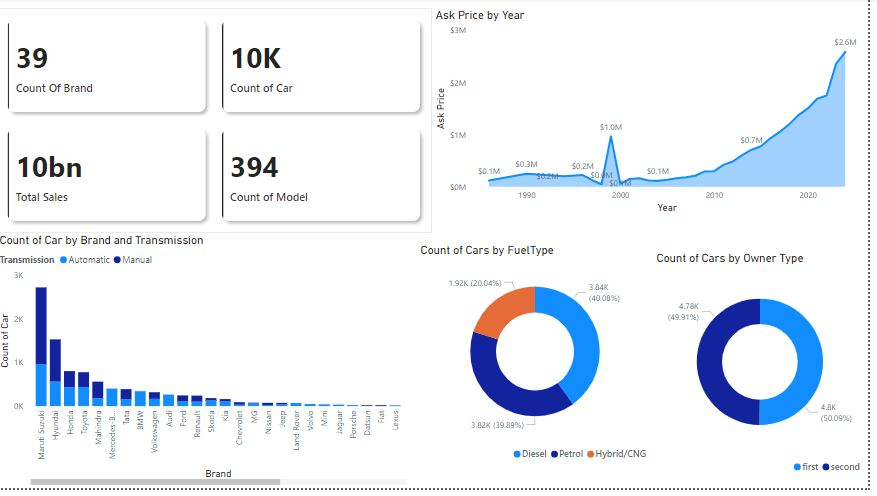

What the dashboard file says about the page in this screenshot:
{"tool":"powerbi","page":{"name":"First","canvas":[1280,720],"ordinal":0},"visuals":[{"type":"columnChart","fields":{"Category":["UsedCar (2).Brand"],"Y":["UsedCar (2).Count of Car"],"Series":["UsedCar (2).Transmission"]},"box":[0,345.3,608.3,374.7],"z":0},{"type":"lineChart","fields":{"Y":["Avg(UsedCar.NewAskPrice)"],"Category":["UsedCar.Year"]},"box":[640.7,14.7,639.2,305.6],"z":1000},{"type":"donutChart","fields":{"Category":["UsedCar (2).FuelType"],"Y":["CountNonNull(UsedCar (2).FuelType)"]},"box":[618.2,369.6,347.7,329.2],"z":2000},{"type":"donutChart","fields":{"Category":["UsedCar (2).Owner"],"Y":["CountNonNull(UsedCar (2).Owner)"]},"box":[965.9,371.2,314.1,336],"z":3000},{"type":"cardVisual","fields":{"Data":["UsedCar.Count Of Brand","UsedCar.Count of Car","UsedCar.Total Sales","UsedCar.Count of Model"]},"box":[0,14.7,640.7,330.6],"z":4000}]}

Visuals, with their boxes in screenshot pixels (x1, y1, x2, y2), scaled from the page's 1280x720 canvas onto the 877x496 screenshot:
columnChart - UsedCar (2).Brand x UsedCar (2).Count of Car: left=0, top=238, right=417, bottom=495
lineChart - Avg(UsedCar.NewAskPrice) x UsedCar.Year: left=439, top=10, right=876, bottom=221
donutChart - UsedCar (2).FuelType x CountNonNull(UsedCar (2).FuelType): left=424, top=255, right=662, bottom=481
donutChart - UsedCar (2).Owner x CountNonNull(UsedCar (2).Owner): left=662, top=256, right=876, bottom=487
cardVisual - UsedCar.Count Of Brand x UsedCar.Count of Car: left=0, top=10, right=439, bottom=238
